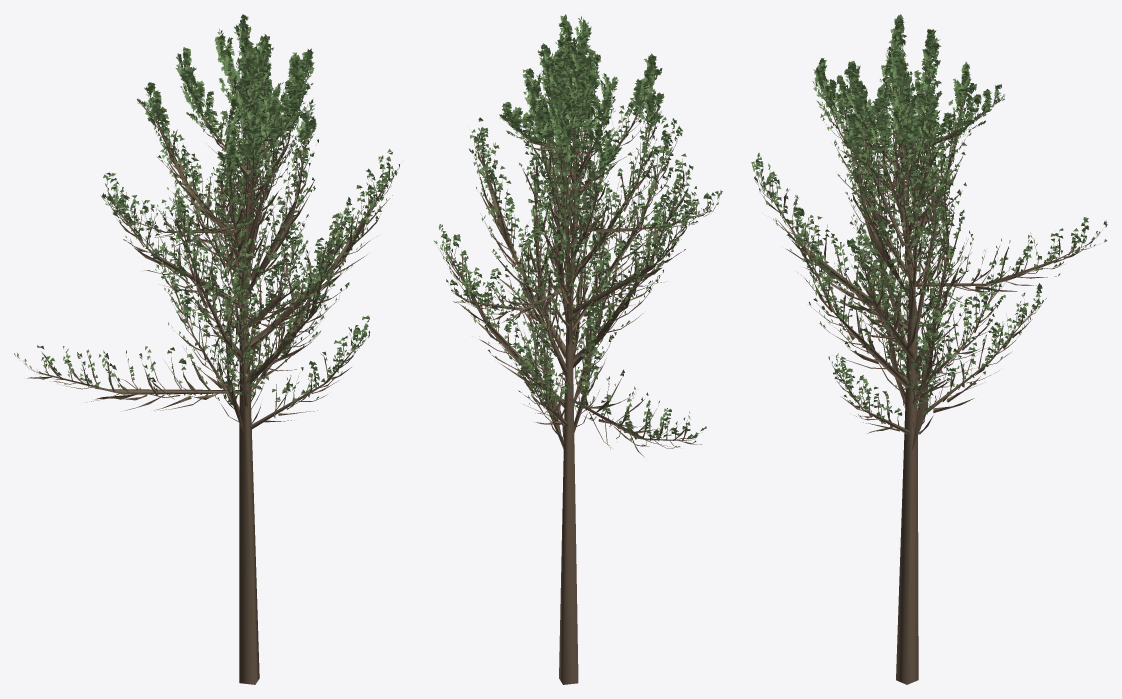
File: Spruce_02_LOD0.fbx
3 renders of one model, left to right at view 1: azimuth 30°, elevation 25°; view 2: azimuth 150°, elevation 25°; view 3: azimuth 270°, elevation 25°, orthographic.
Parts seen in each view (by area): view 1: Spruce; view 2: Spruce; view 3: Spruce.
Part boxes in pixels (box(x1,y1,x2,y2)): Spruce: box(14, 14, 399, 684); Spruce: box(434, 14, 722, 684); Spruce: box(751, 14, 1107, 684).
Bounding box in the file's own units: 951 × 1932 × 944.
